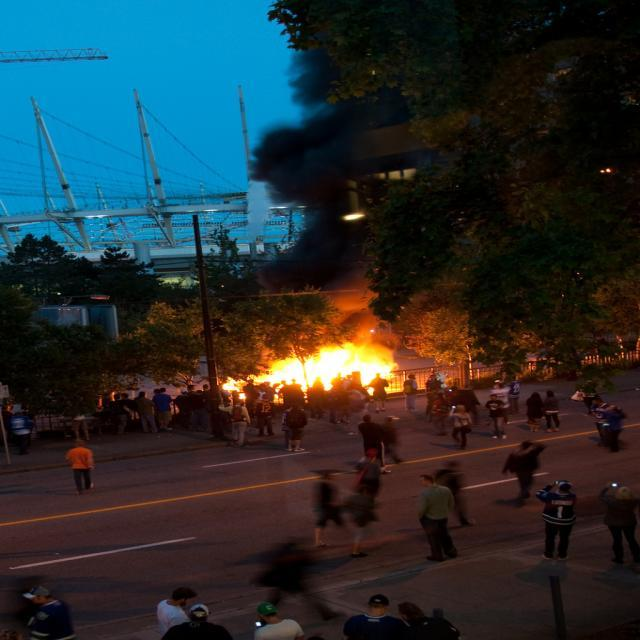Fire: (248, 332, 431, 401)
